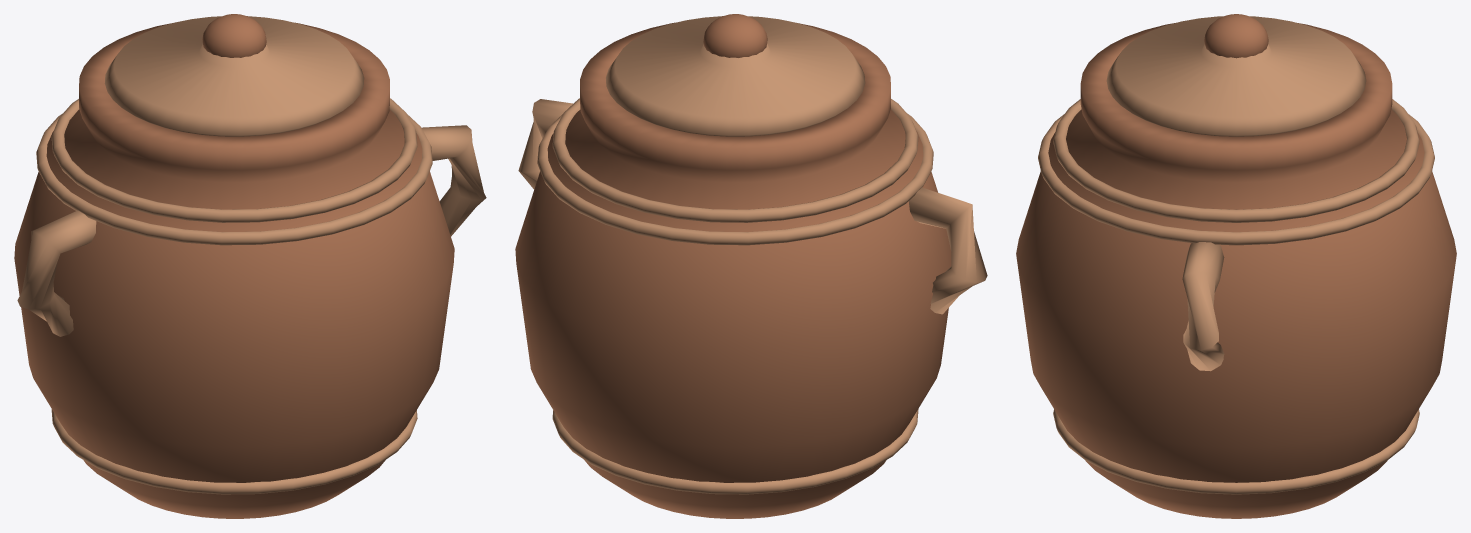
The model's file is storage-jar.glb.
3 views of the same model, side by side, from view 1: azimuth 30°, elevation 25°; view 2: azimuth 150°, elevation 25°; view 3: azimuth 270°, elevation 25° (orthographic).
Parts seen in each view (by area): view 1: storage-jar__Visual_matte; view 2: storage-jar__Visual_matte; view 3: storage-jar__Visual_matte.
Boxes of the visible parts, <box> form: storage-jar__Visual_matte: <box>14,14,486,518</box>; storage-jar__Visual_matte: <box>515,14,987,518</box>; storage-jar__Visual_matte: <box>1016,14,1456,518</box>.
Size of the model in its own units: 0.9116 by 0.843 by 0.75.
